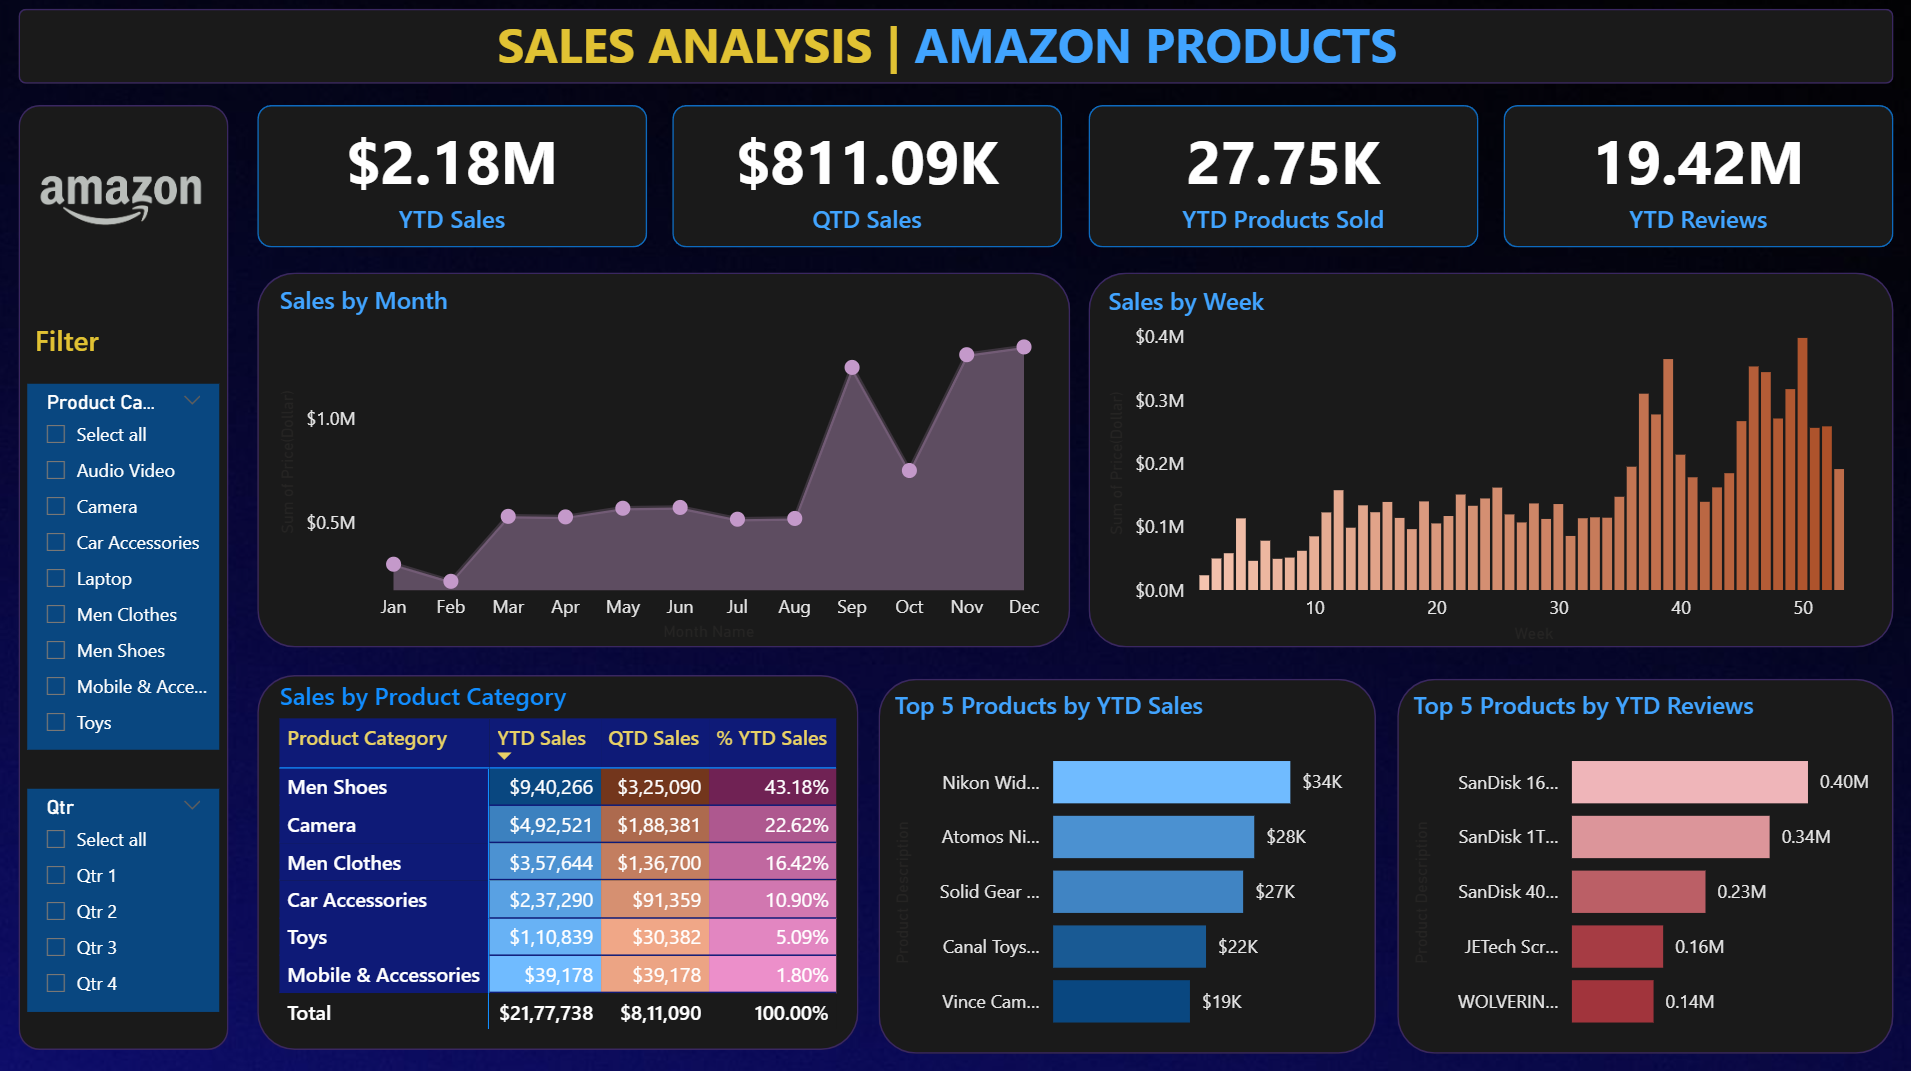

Layout of this report page (visuals, bound fields, positions):
{"tool":"powerbi","page":{"name":"Page 1","canvas":[1280,720],"ordinal":0},"visuals":[{"type":"shape","box":[15,9.2,1250,50],"z":0},{"type":"shape","box":[174.2,73.3,260,95],"z":0,"group":"g1"},{"type":"textbox","box":[329.2,5.8,621.7,55.8],"z":1000},{"type":"card","fields":{"Values":["Amazon_Data.YTD Sales"]},"box":[174.2,73.3,260,95],"z":1000,"group":"g1"},{"type":"shape","box":[15,73.3,140,630],"z":2000},{"type":"shape","box":[451.1,73.3,260,95],"z":2000,"group":"g1"},{"type":"group","id":"g1","title":"Group 1","box":[174.2,73.3,1090.8,95],"z":3000},{"type":"shape","box":[728.1,73.3,260,95],"z":3000,"group":"g1"},{"type":"shape","box":[1005,73.3,260,95],"z":4000,"group":"g1"},{"type":"shape","box":[174.2,185,542,250],"z":4000},{"type":"card","fields":{"Values":["Amazon_Data.QTD Sales"]},"box":[450.9,73.3,260,95],"z":5000,"group":"g1"},{"type":"areaChart","title":"Sales by Month","fields":{"Category":["Date Table.Month Name"],"Y":["Sum(Amazon_Data.Price(Dollar))"]},"box":[184.2,191.7,521.7,244.2],"z":5000},{"type":"card","fields":{"Values":["Amazon_Data.YTD Products Sold"]},"box":[728.4,73.3,260,95],"z":6000,"group":"g1"},{"type":"shape","box":[728.3,185,536.7,250],"z":6000},{"type":"card","fields":{"Values":["Amazon_Data.YTD Reviews"]},"box":[1005,73.3,260,95],"z":7000,"group":"g1"},{"type":"columnChart","title":"Sales by Week","fields":{"Category":["Date Table.Week"],"Y":["Sum(Amazon_Data.Price(Dollar))"]},"box":[736.7,192.5,520.8,244.2],"z":7000},{"type":"shape","box":[174.2,453.3,400.8,250],"z":8000},{"type":"shape","box":[588.3,455.8,331.7,250],"z":9000},{"type":"pivotTable","title":"Sales by Product Category","fields":{"Rows":["Amazon_Data.Product Category"],"Values":["Amazon_Data.YTD Sales1","Amazon_Data.QTD Sales","Amazon_Data.YTD Sales"]},"box":[184.2,455.8,390.8,244.2],"z":10000},{"type":"shape","box":[934.2,455.8,330.8,250],"z":11000},{"type":"clusteredBarChart","title":"Top 5 Products by YTD Sales","fields":{"Category":["Amazon_Data.Product Description"],"Y":["Amazon_Data.YTD Sales"]},"box":[594.2,461.7,320,244.2],"z":12000},{"type":"clusteredBarChart","title":"Top 5 Products by YTD Reviews","fields":{"Category":["Amazon_Data.Product Description"],"Y":["Amazon_Data.YTD Reviews"]},"box":[940,461.7,320,244.2],"z":13000},{"type":"slicer","fields":{"Values":["Amazon_Data.Product Category"]},"box":[20.8,259.2,128.3,244.2],"z":14000},{"type":"slicer","fields":{"Values":["Date Table.Qtr"]},"box":[20.8,529.2,128.3,149.2],"z":15000},{"type":"image","box":[18.3,73.3,133.3,133.3],"z":16000},{"type":"textbox","box":[20.8,212.5,64.2,37.5],"z":16001}]}

Visuals, with their boxes in screenshot pixels (x1, y1, x2, y2), scaled from the page's 1280x720 canvas onto the 1911x1071 screenshot:
shape: [x1=22, y1=14, x2=1889, y2=88]
shape: [x1=260, y1=109, x2=648, y2=250]
textbox: [x1=491, y1=9, x2=1420, y2=92]
card - Amazon_Data.YTD Sales: [x1=260, y1=109, x2=648, y2=250]
shape: [x1=22, y1=109, x2=231, y2=1046]
shape: [x1=673, y1=109, x2=1062, y2=250]
"Group 1" group: [x1=260, y1=109, x2=1889, y2=250]
shape: [x1=1087, y1=109, x2=1475, y2=250]
shape: [x1=1500, y1=109, x2=1889, y2=250]
shape: [x1=260, y1=275, x2=1069, y2=647]
card - Amazon_Data.QTD Sales: [x1=673, y1=109, x2=1061, y2=250]
"Sales by Month" areaChart: [x1=275, y1=285, x2=1054, y2=648]
card - Amazon_Data.YTD Products Sold: [x1=1087, y1=109, x2=1476, y2=250]
shape: [x1=1087, y1=275, x2=1889, y2=647]
card - Amazon_Data.YTD Reviews: [x1=1500, y1=109, x2=1889, y2=250]
"Sales by Week" columnChart: [x1=1100, y1=286, x2=1877, y2=650]
shape: [x1=260, y1=674, x2=858, y2=1046]
shape: [x1=878, y1=678, x2=1374, y2=1050]
"Sales by Product Category" pivotTable: [x1=275, y1=678, x2=858, y2=1041]
shape: [x1=1395, y1=678, x2=1889, y2=1050]
"Top 5 Products by YTD Sales" clusteredBarChart: [x1=887, y1=687, x2=1365, y2=1050]
"Top 5 Products by YTD Reviews" clusteredBarChart: [x1=1403, y1=687, x2=1881, y2=1050]
slicer - Amazon_Data.Product Category: [x1=31, y1=386, x2=223, y2=749]
slicer - Date Table.Qtr: [x1=31, y1=787, x2=223, y2=1009]
image: [x1=27, y1=109, x2=226, y2=307]
textbox: [x1=31, y1=316, x2=127, y2=372]
